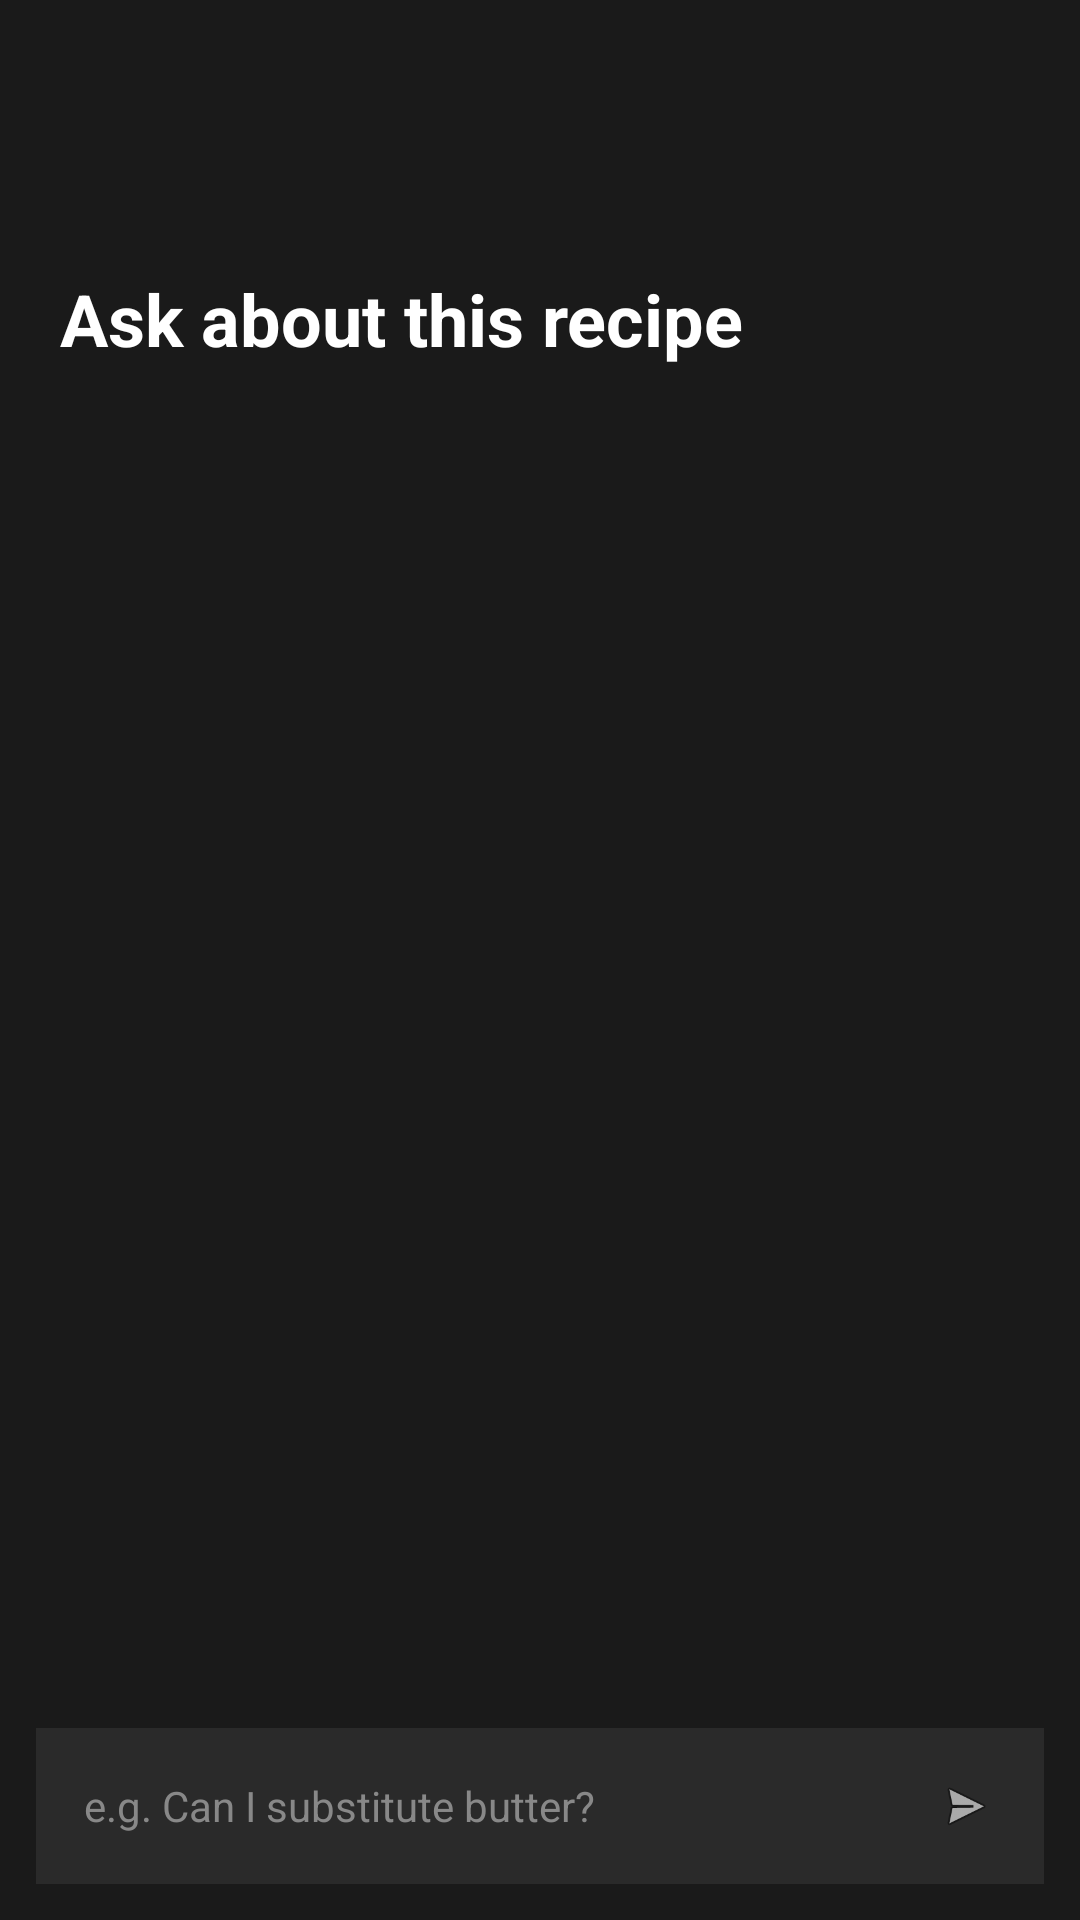

Screen size 1080px×1920px. Icon name, then its center in pixels as (x=x, y=y):
Send: (x=966, y=1806)
